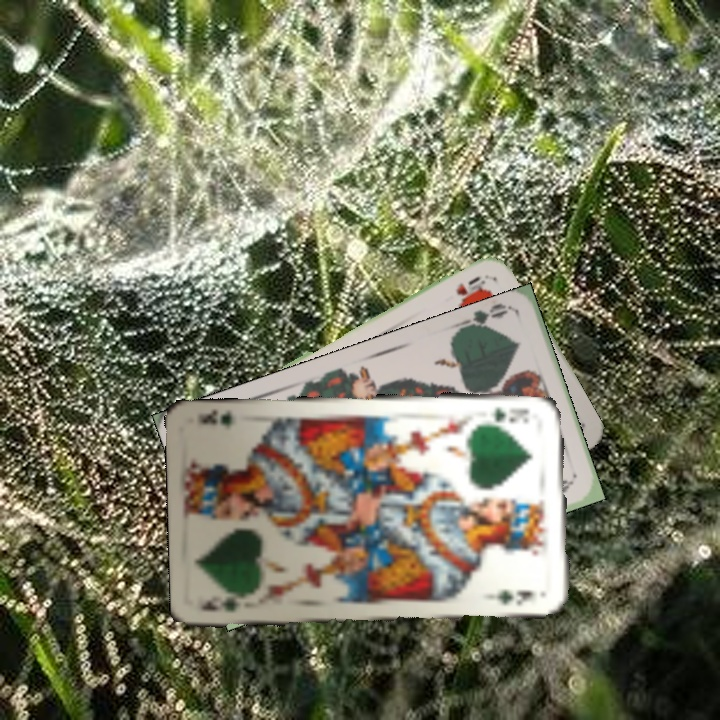GK: (196, 591, 250, 614), (490, 403, 532, 425)
GO: (454, 300, 512, 336)
HO: (452, 271, 491, 299)
